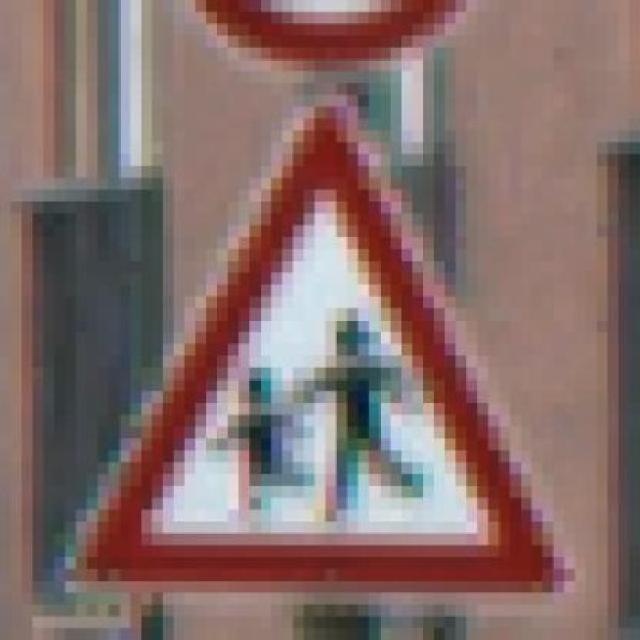Beware of children: (54, 70, 586, 604)
